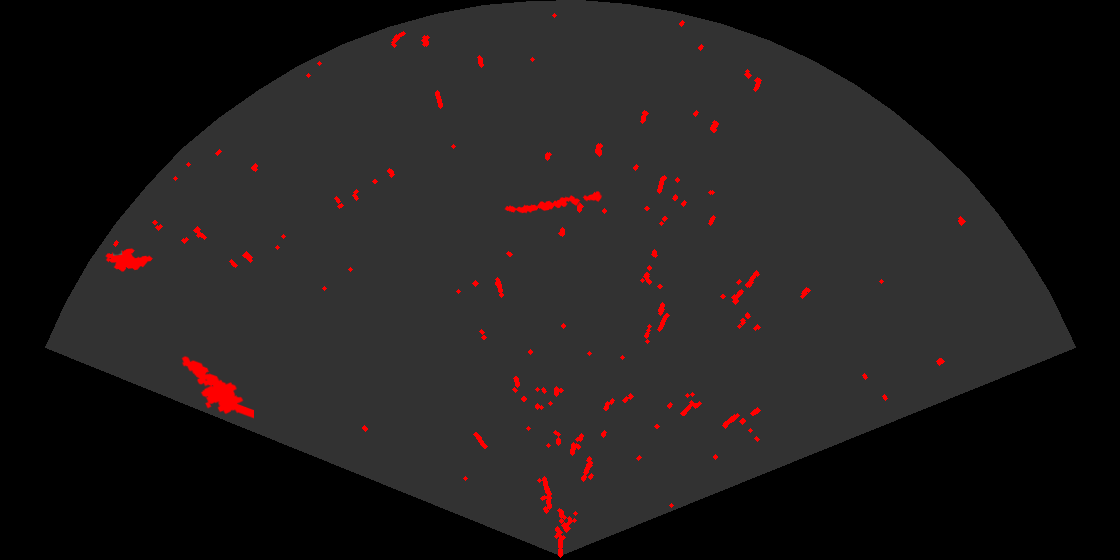AUV: (104, 247, 154, 273)
chain: (503, 190, 604, 215)
frogman: (180, 354, 254, 420)
